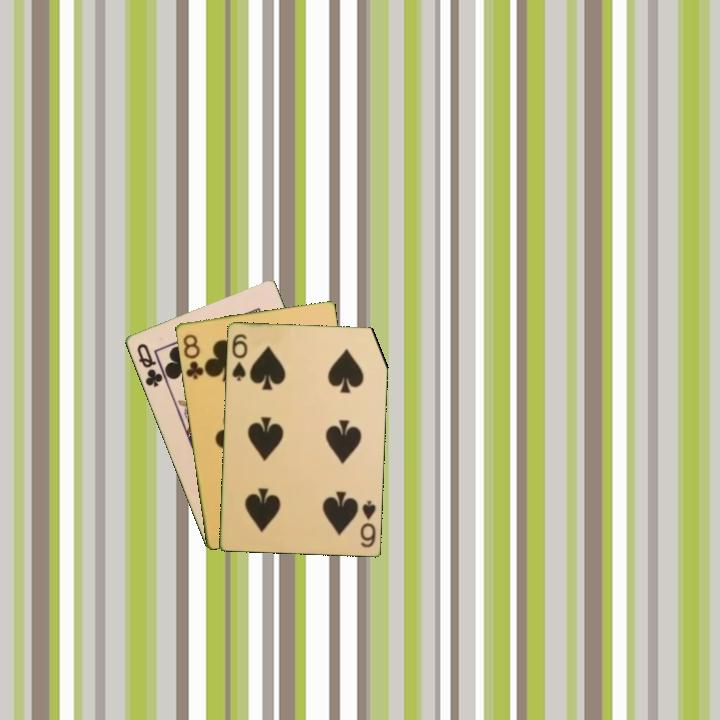6s: (228, 330, 250, 384), (357, 497, 378, 550)
8c: (179, 330, 206, 382)
Qc: (133, 340, 165, 390)
